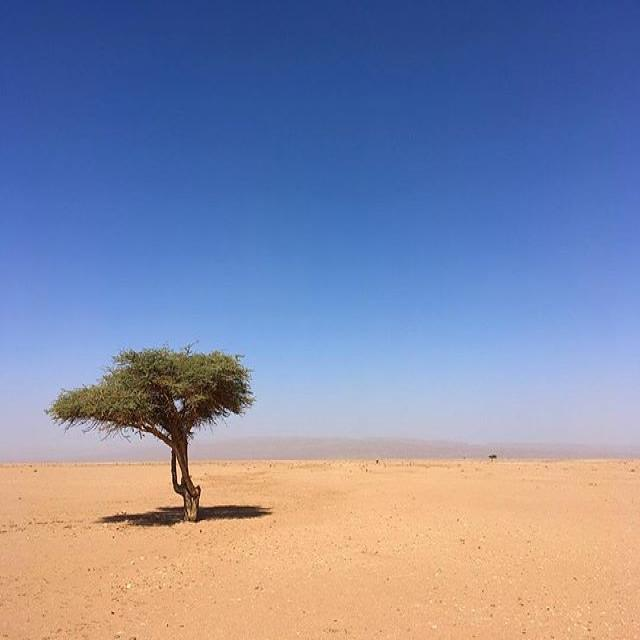Acacia: (20, 273, 249, 499)
